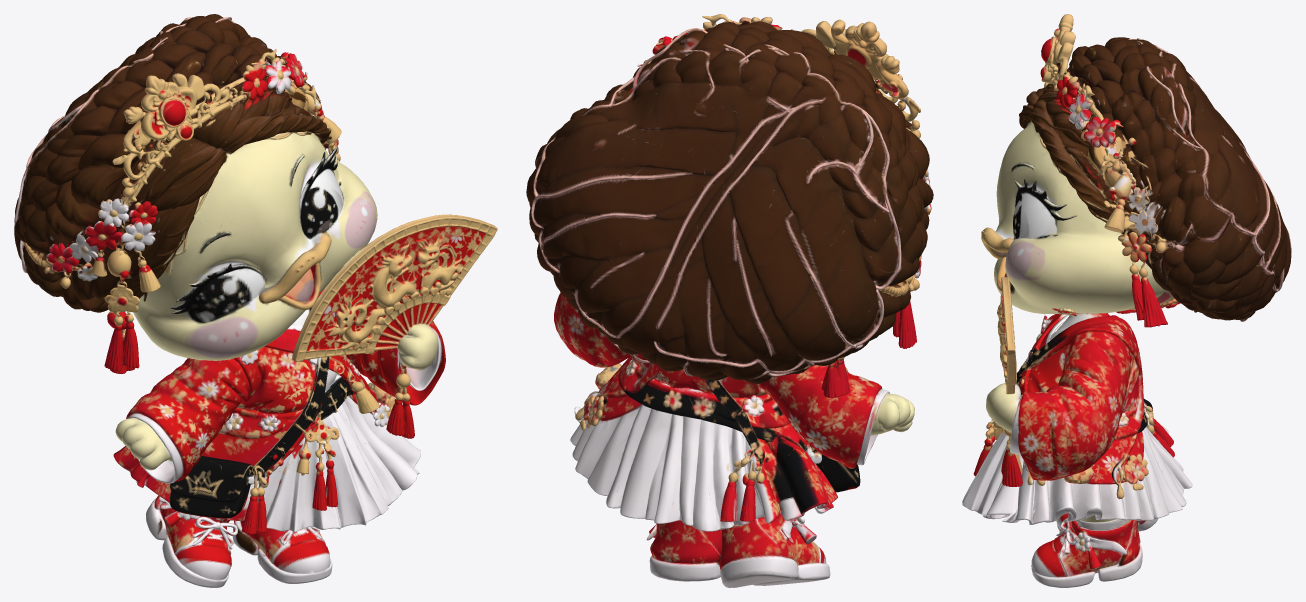
File: ducksoon.glb
The picture shows the model from 3 angles, left to right: view 1: azimuth 30°, elevation 25°; view 2: azimuth 150°, elevation 25°; view 3: azimuth 270°, elevation 25°; orthographic projection. The views are drawn at different scales.
Size of the model in its own units: 1.5 by 1.9 by 1.14.
Materials: 1 (1 with a texture image).
